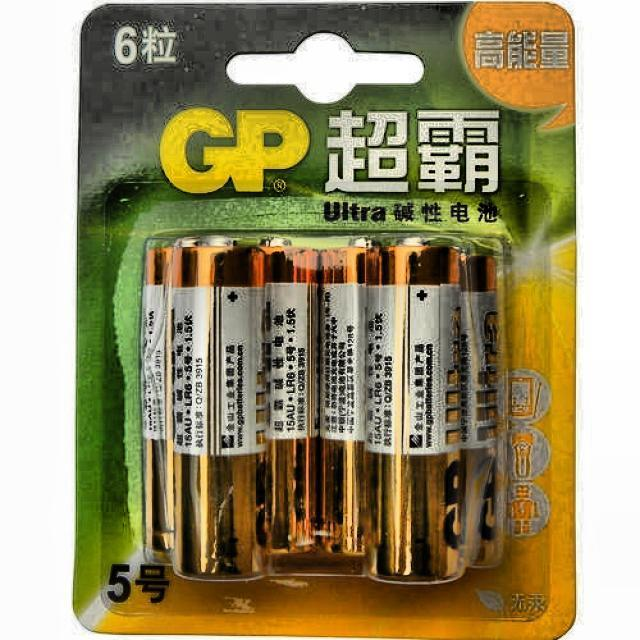battery: (142, 239, 504, 602)
